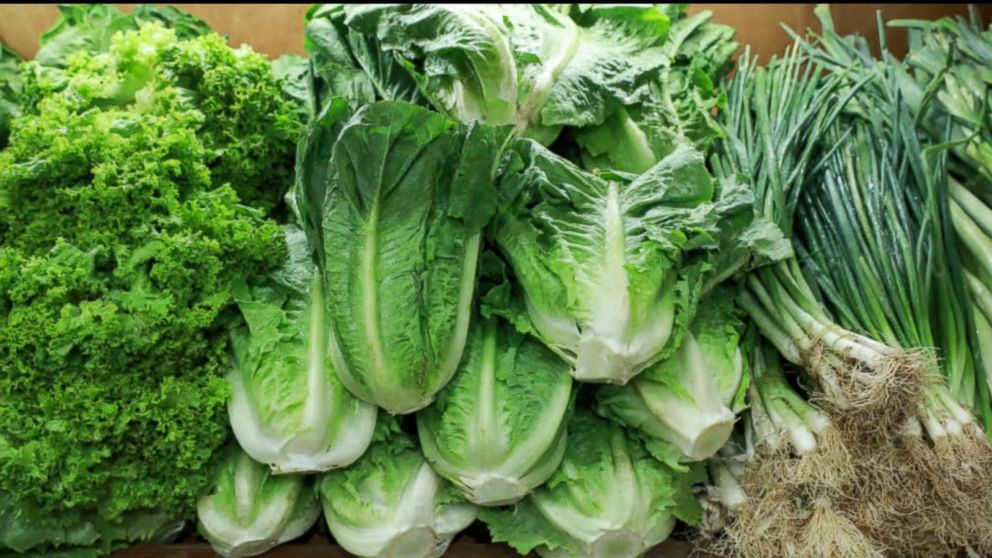chopped lettuce: (452, 37, 682, 304)
